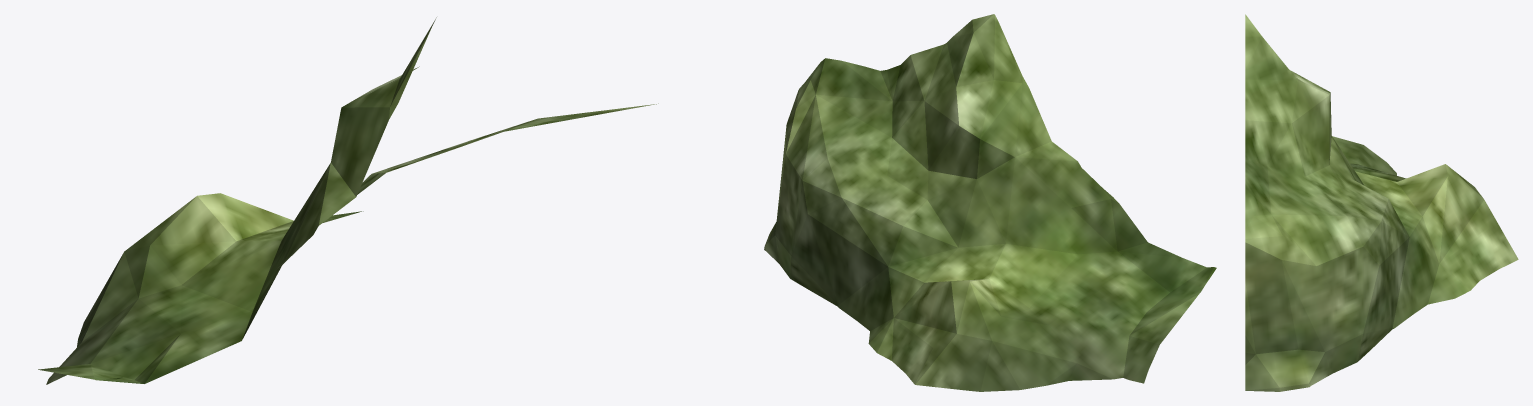
3 views of the same model, side by side, from view 1: azimuth 30°, elevation 25°; view 2: azimuth 150°, elevation 25°; view 3: azimuth 270°, elevation 25° (orthographic). The views are drawn at different scales.
Bounding box in the file's own units: 1.39 × 0.8094 × 0.7367.
1 material, 1 textured.
